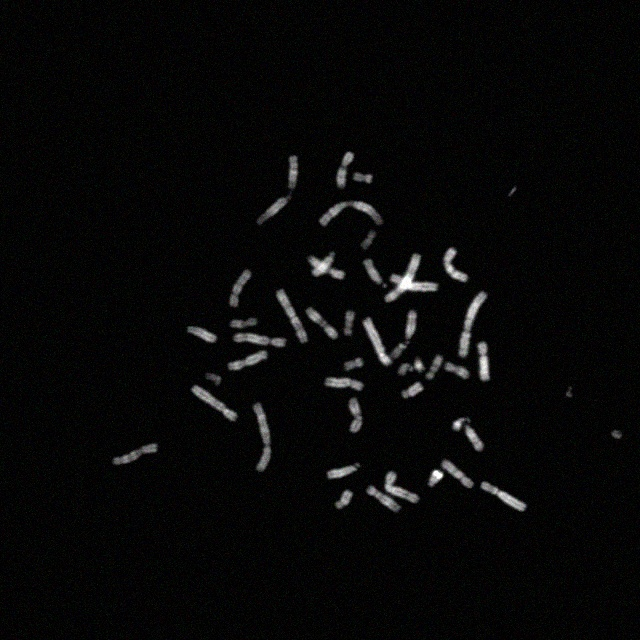chromosome: (256, 154, 299, 226), (384, 252, 420, 304), (459, 292, 488, 356), (318, 200, 384, 228), (276, 288, 308, 344), (192, 386, 238, 424), (362, 317, 392, 369), (480, 480, 526, 512), (392, 310, 418, 358), (255, 403, 272, 471), (453, 416, 483, 454), (112, 442, 158, 466), (306, 306, 338, 340), (384, 472, 418, 502), (390, 274, 438, 294), (443, 248, 469, 284), (366, 486, 400, 512), (442, 459, 472, 487), (227, 350, 267, 370), (308, 257, 344, 279), (230, 270, 252, 306), (312, 248, 336, 278), (335, 153, 353, 190), (476, 342, 492, 382), (328, 459, 360, 479), (361, 259, 385, 285), (234, 334, 286, 346), (395, 358, 427, 377), (322, 377, 364, 391), (188, 326, 217, 344), (442, 362, 470, 380), (426, 353, 442, 382), (349, 399, 361, 433), (342, 309, 356, 337), (361, 228, 377, 252), (229, 316, 256, 330), (401, 382, 422, 398), (344, 357, 364, 373), (336, 490, 352, 510), (428, 470, 444, 488), (203, 372, 222, 386), (352, 172, 372, 184)
